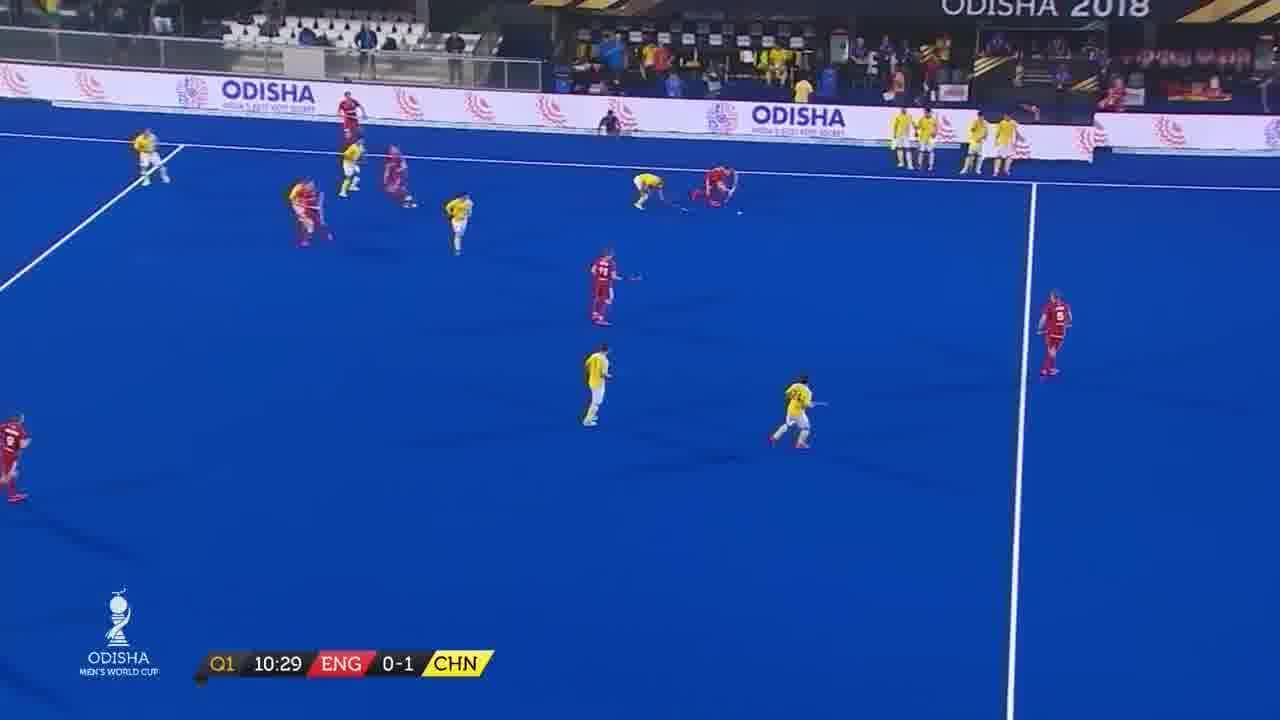ball: (732, 208, 748, 222)
